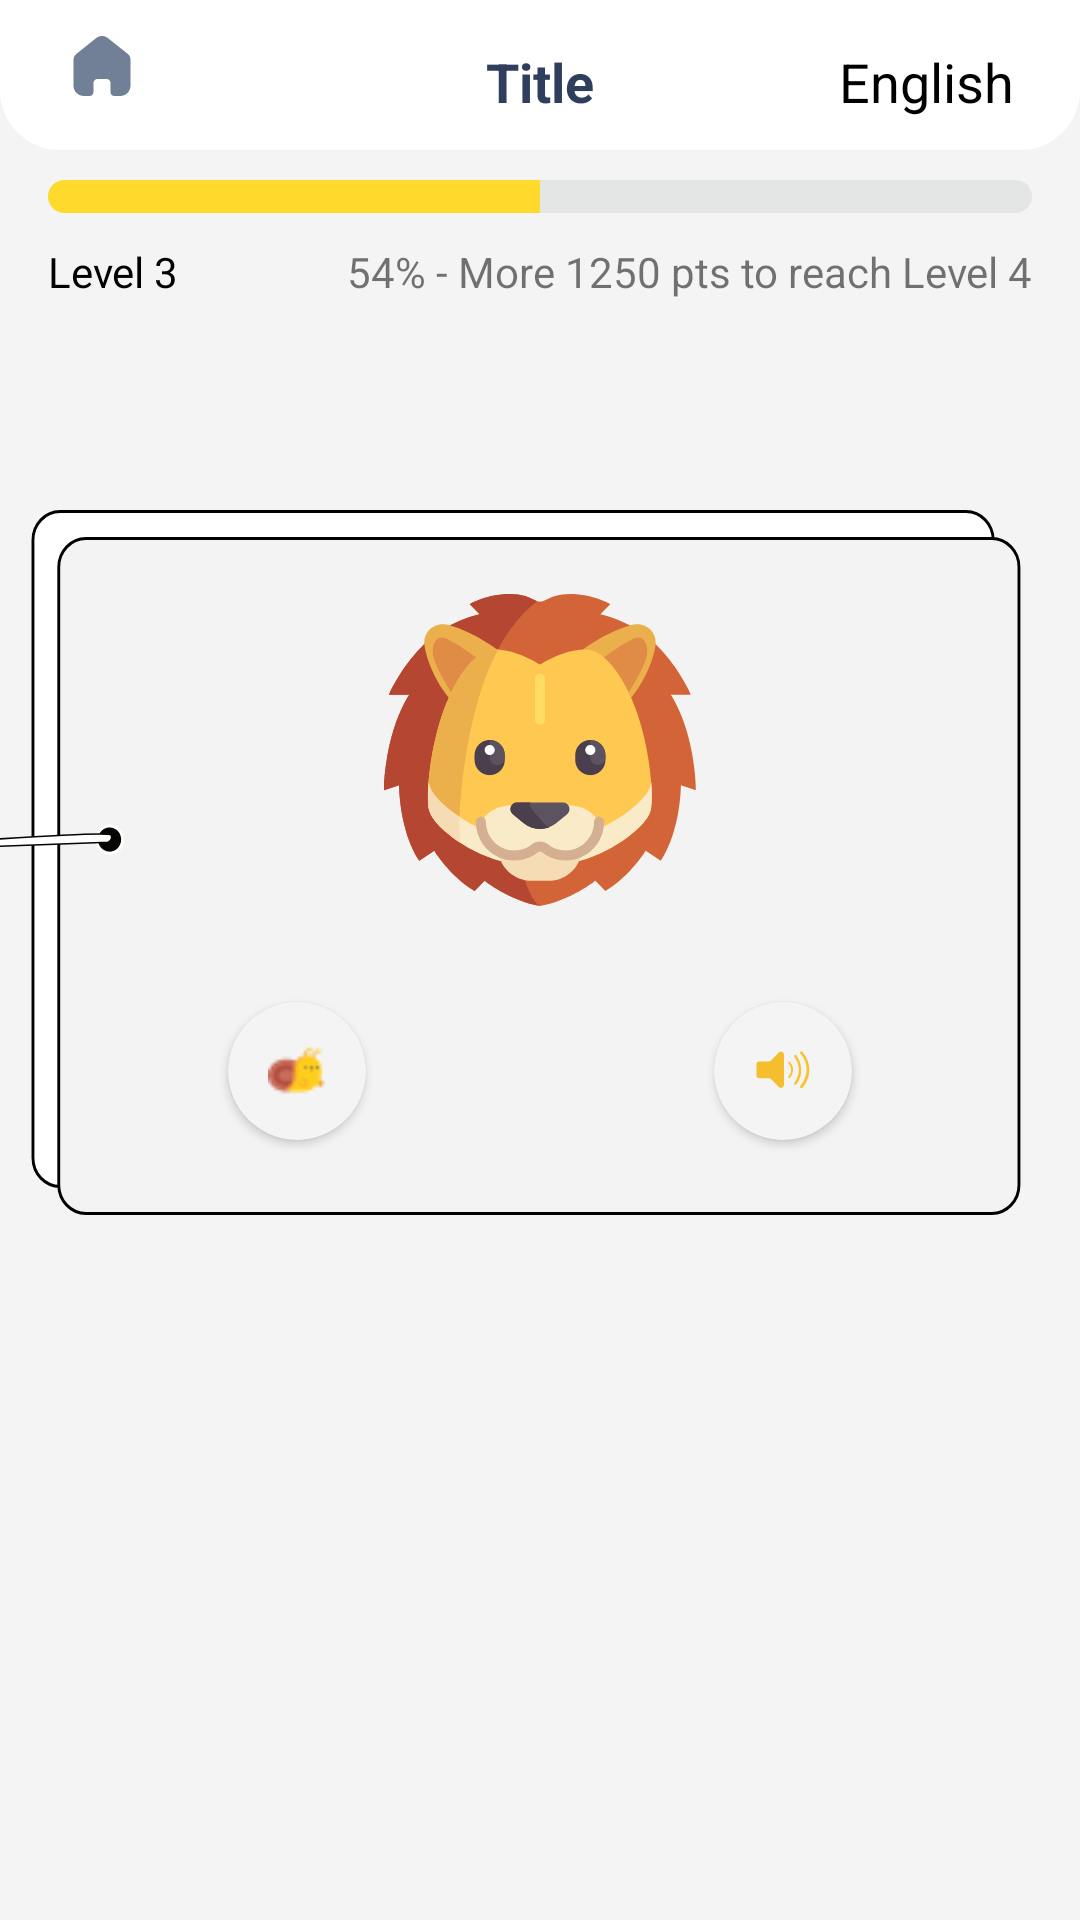

Screen size 1080×1920. Icon name, then its center in pixels as (x=x, y=y):
english home: (x=102, y=66)
english lion: (x=540, y=750)
english snail: (x=296, y=1070)
english sound: (x=783, y=1070)
